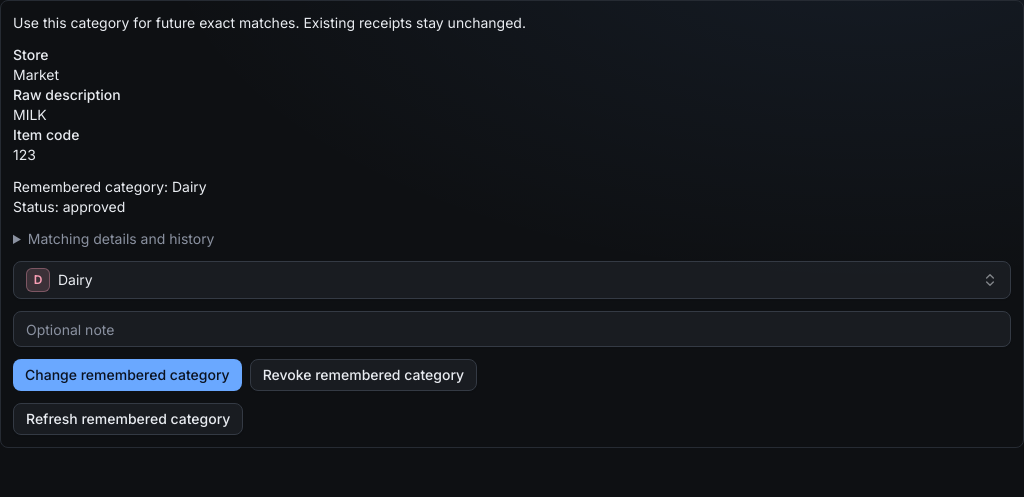
RememberCategory › revokes with an explicit null category
Expected: the text "Remembered category: Dairy" is shown, [13, 178, 207, 195]
Type "Exact source reviewed" into the field named "reason". click: (512, 329)
box: [13, 311, 1011, 347]
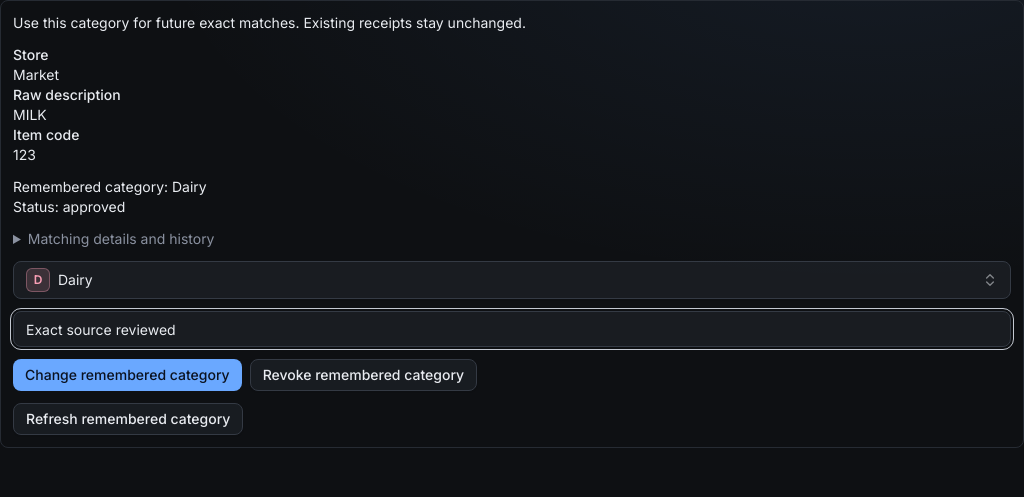
Click the button "Revoke remembered category". click: (363, 375)
box: [250, 359, 477, 391]
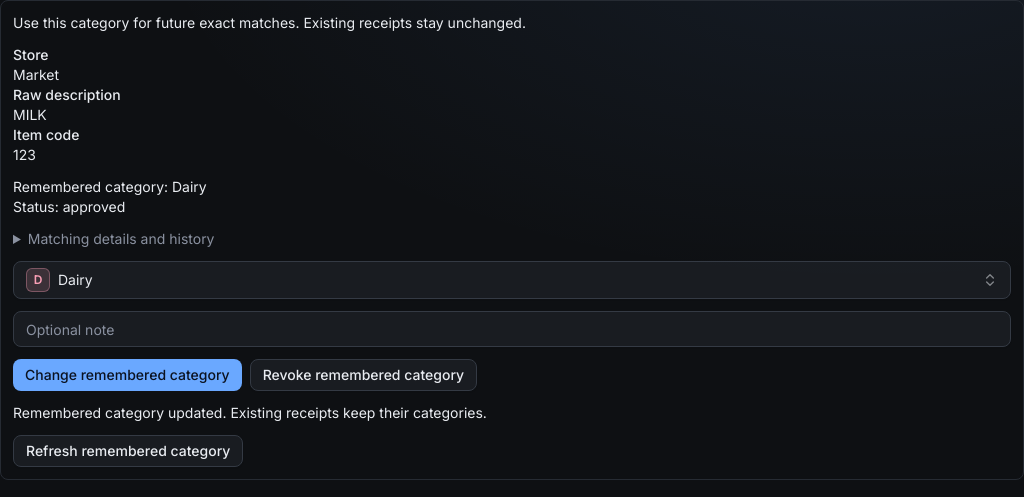
Expected: the text "Remembered category updated. Existing receipts keep their categories." is shown, [13, 404, 487, 421]
